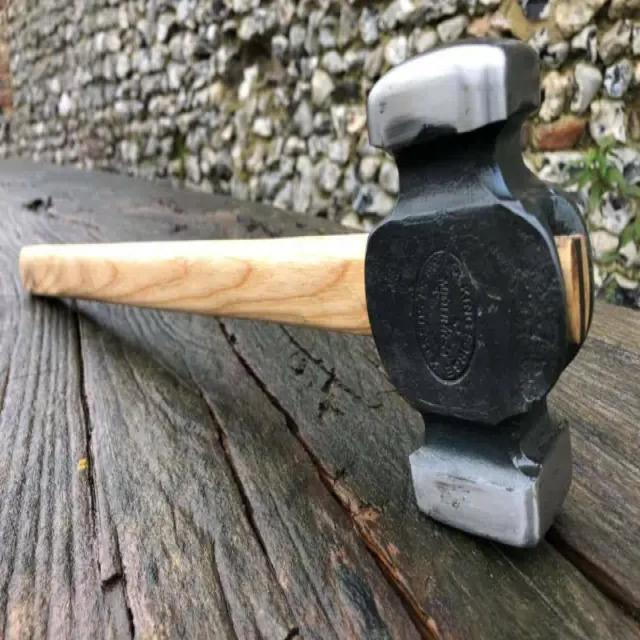hammer: (13, 32, 603, 560)
